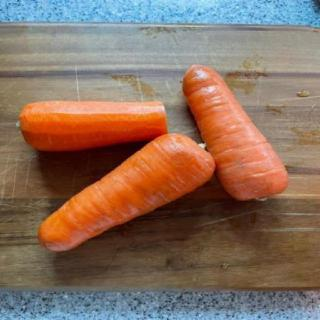carrot: (34, 130, 222, 256), (184, 61, 294, 209), (14, 100, 172, 154)
